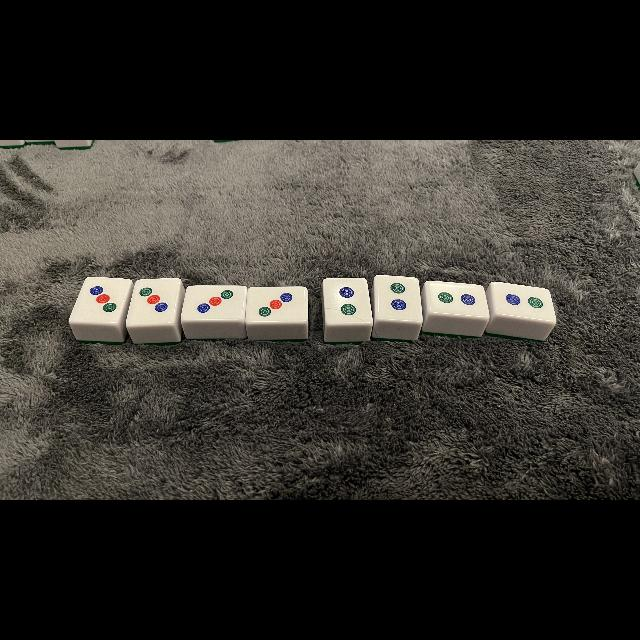d2: (492, 284, 556, 318), (324, 278, 370, 324), (374, 276, 420, 320), (427, 282, 488, 314)
d3: (78, 277, 124, 323), (184, 286, 244, 320), (132, 279, 176, 325), (247, 287, 305, 321)
